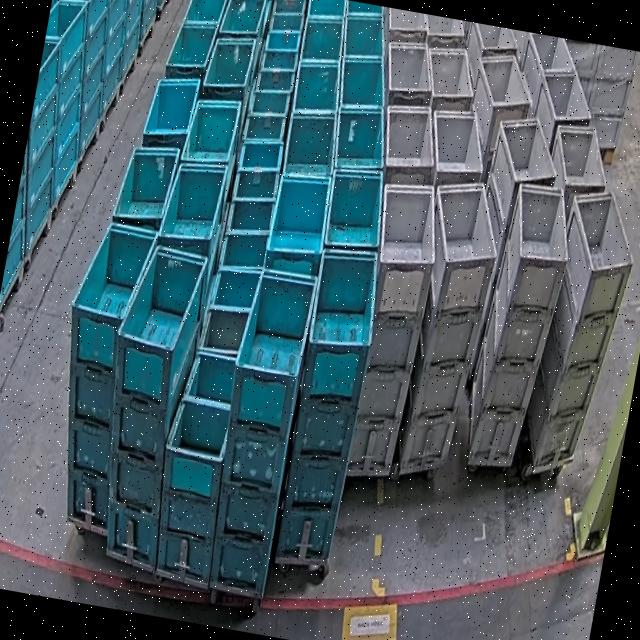4G: (386, 175, 510, 481), (517, 180, 640, 477), (457, 178, 580, 472), (333, 177, 448, 480)
B4: (77, 238, 215, 572), (194, 262, 320, 596), (32, 218, 159, 532), (267, 243, 387, 568)
B8: (143, 345, 250, 584)
